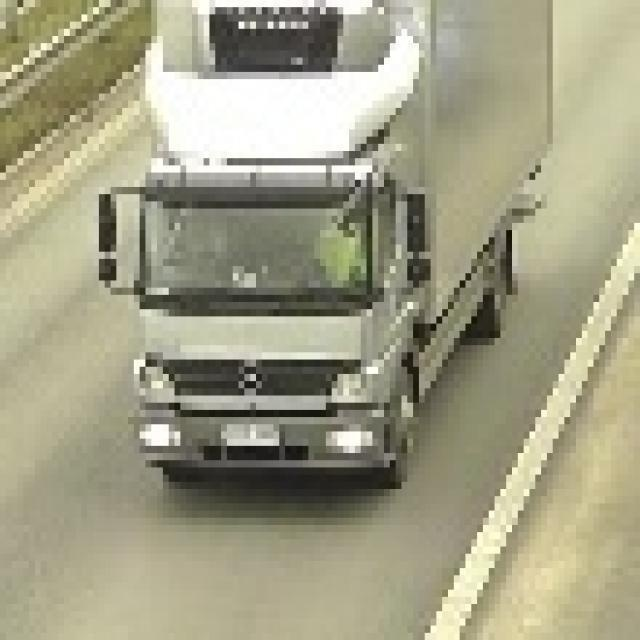Truck: (93, 0, 553, 489)
